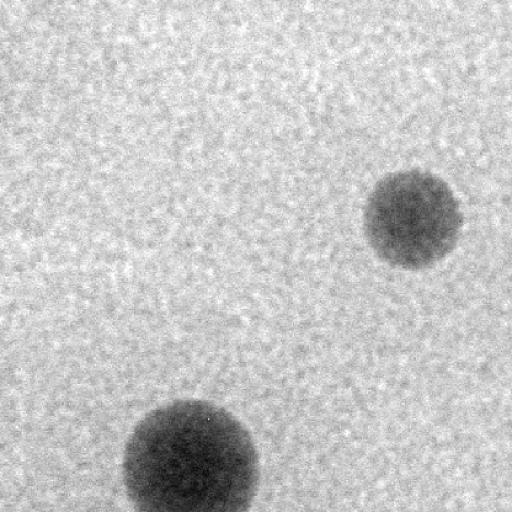Nanoparticles: (118, 394, 262, 512), (361, 168, 465, 284)
